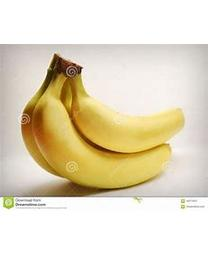banana: (19, 52, 185, 188)
